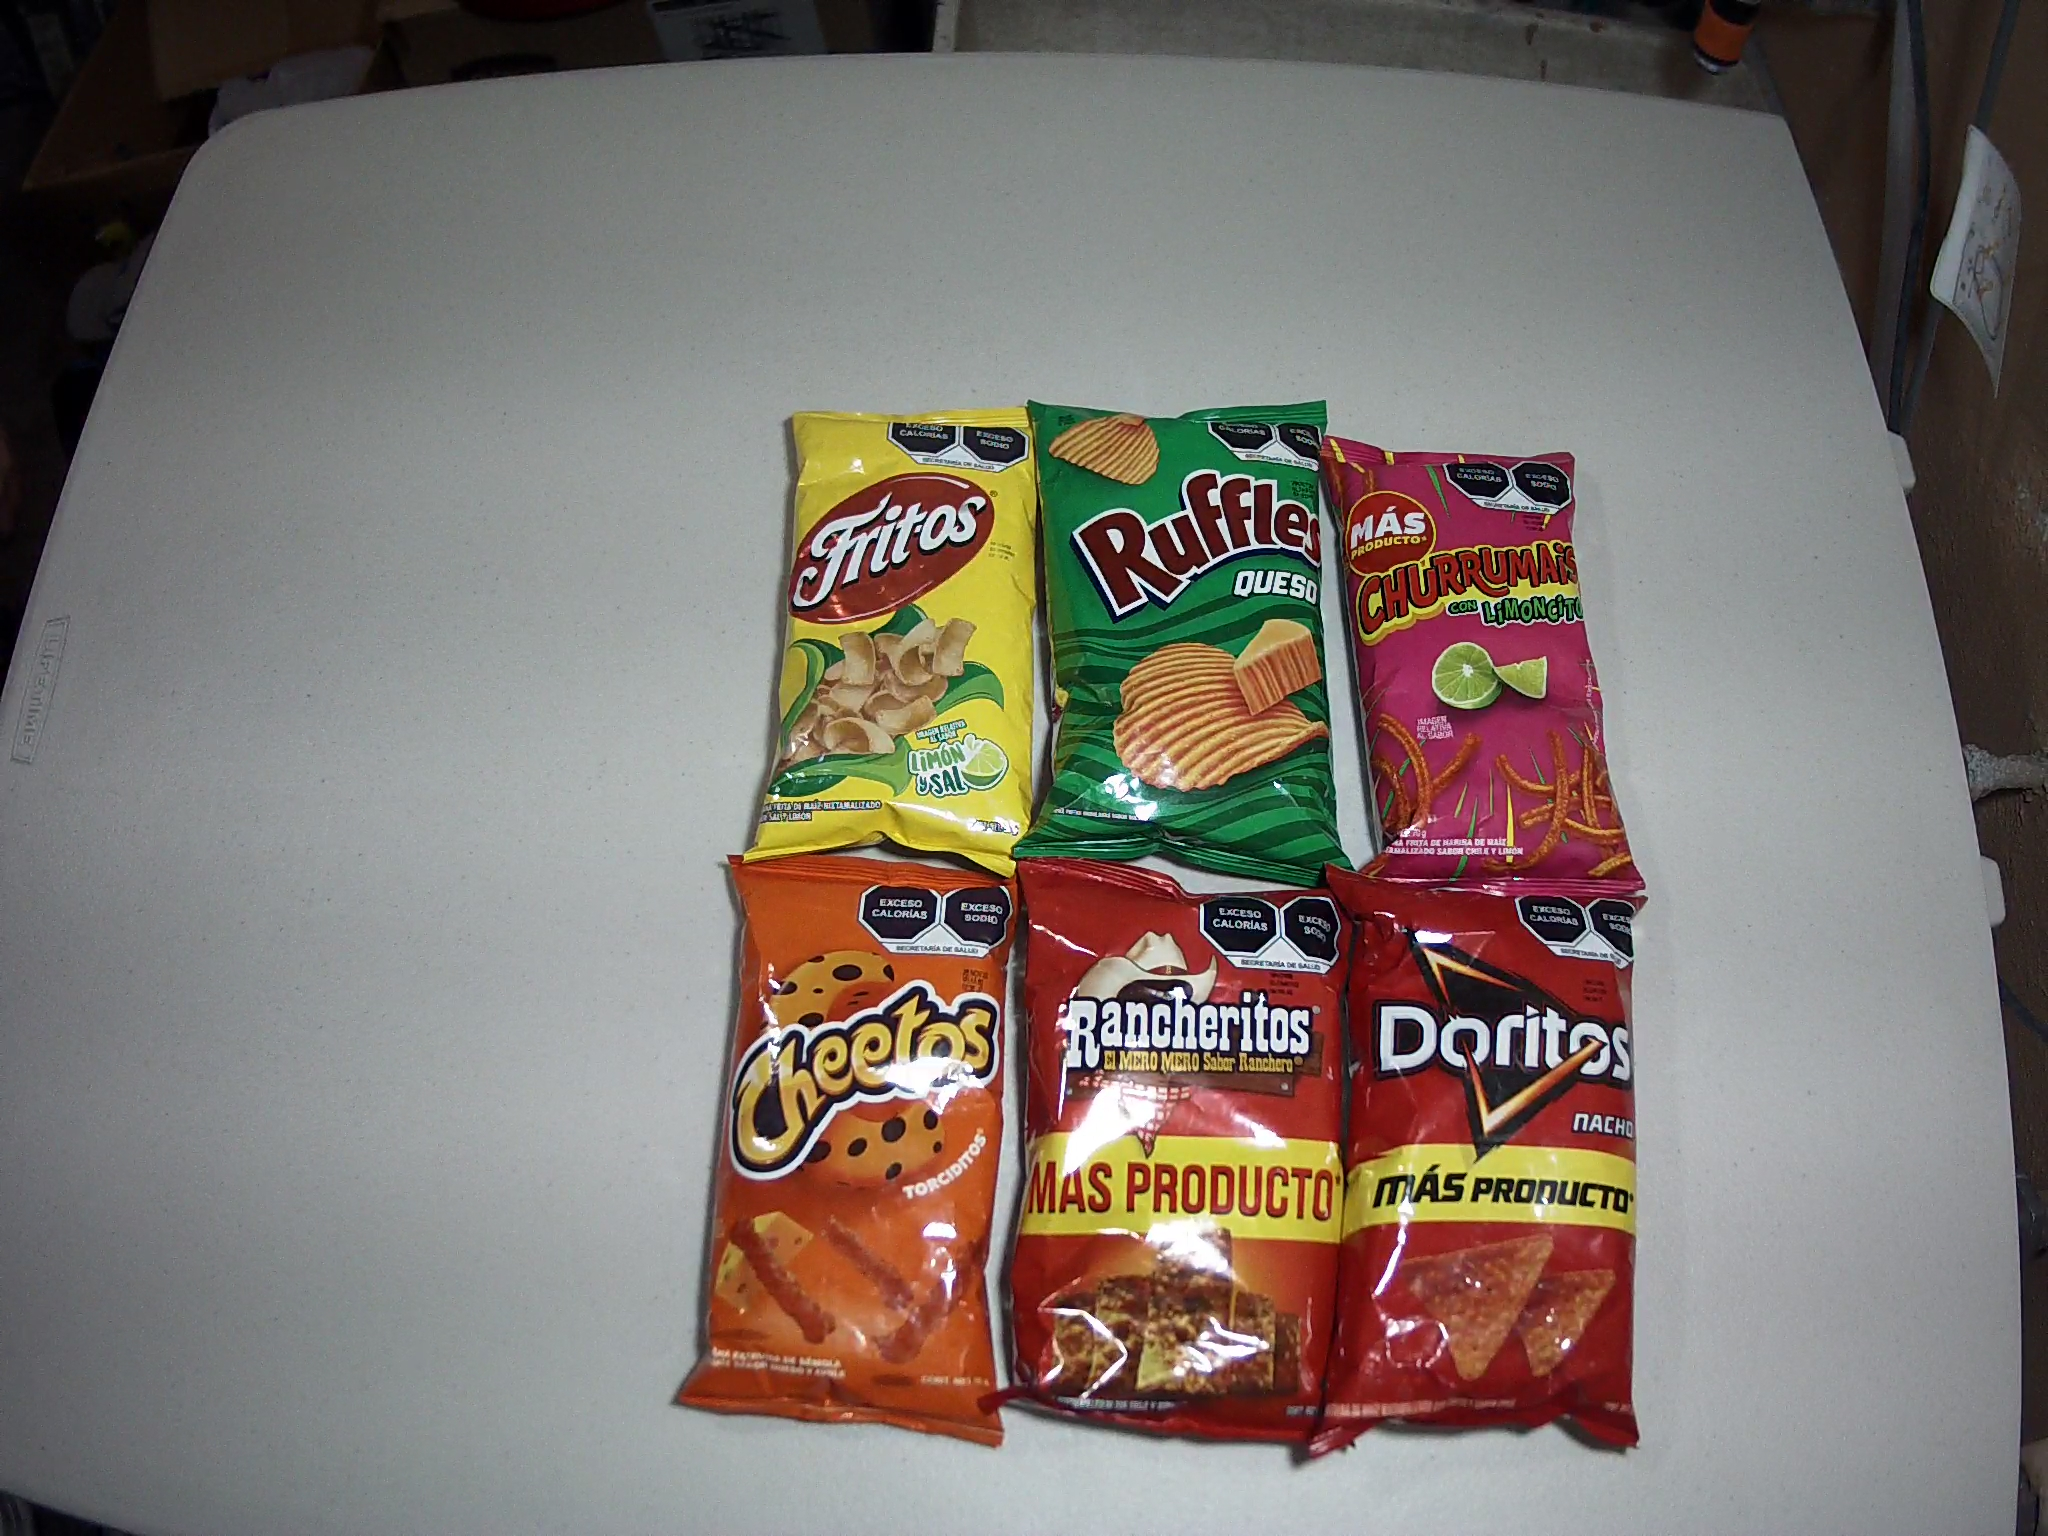CheetosTorciditos_55_F: (679, 854, 1016, 1450)
Churrumais_70_F: (1317, 437, 1646, 892)
DoritosN_61_F: (1338, 891, 1646, 1452)
FritosSalLimon_65_F: (745, 403, 1042, 874)
Rancheritos_58_F: (998, 857, 1350, 1444)
RufflesQ_48_F: (1021, 399, 1330, 883)
